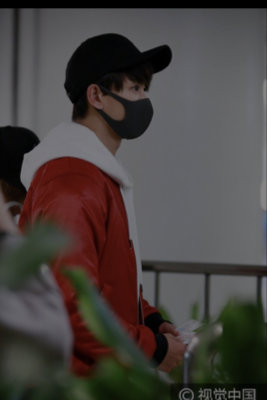with_mask: (107, 81, 154, 142)
